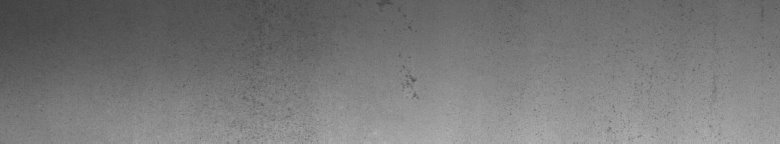ib: (378, 4, 426, 99)
